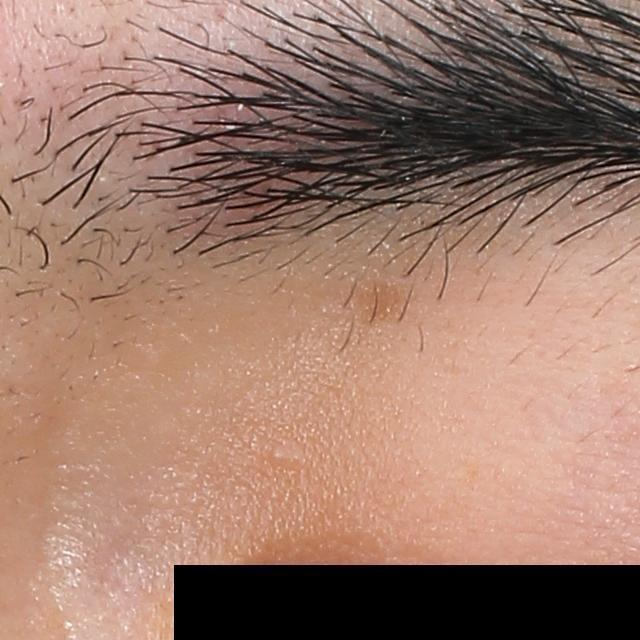comedo: (261, 445, 295, 468)
